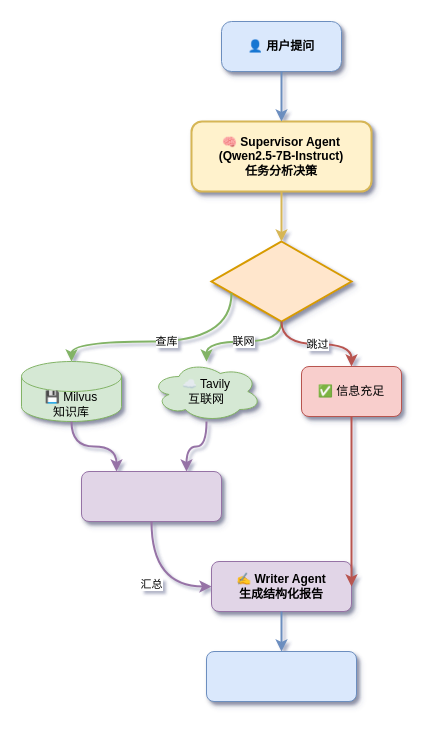
This 431x732 diagram has some shape labels left out. The shapes that lost their labels are listed below. From the top down, each one's centre as x and y in pixels, then its label:
At (x=282, y=282): "❓ 需要补充信息?".
At (x=152, y=497): "🕵️ Research Agent 收集信息整合".
At (x=282, y=677): "📄 最终回答 + 来源".
